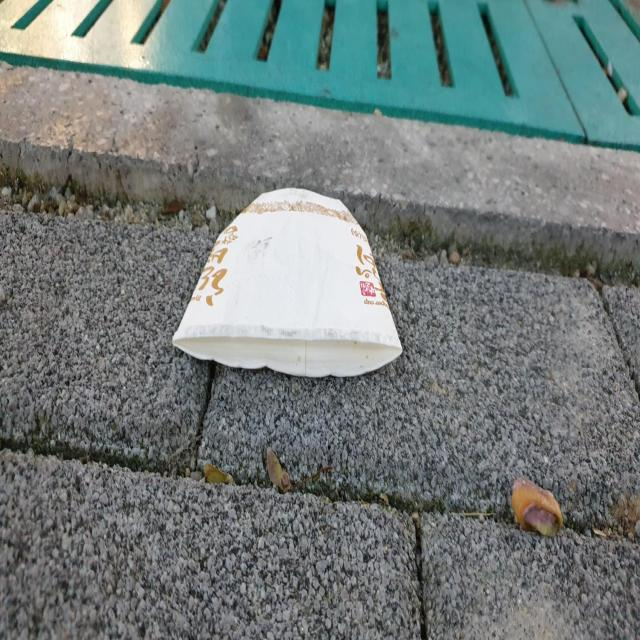paperpack: (172, 187, 402, 376)
